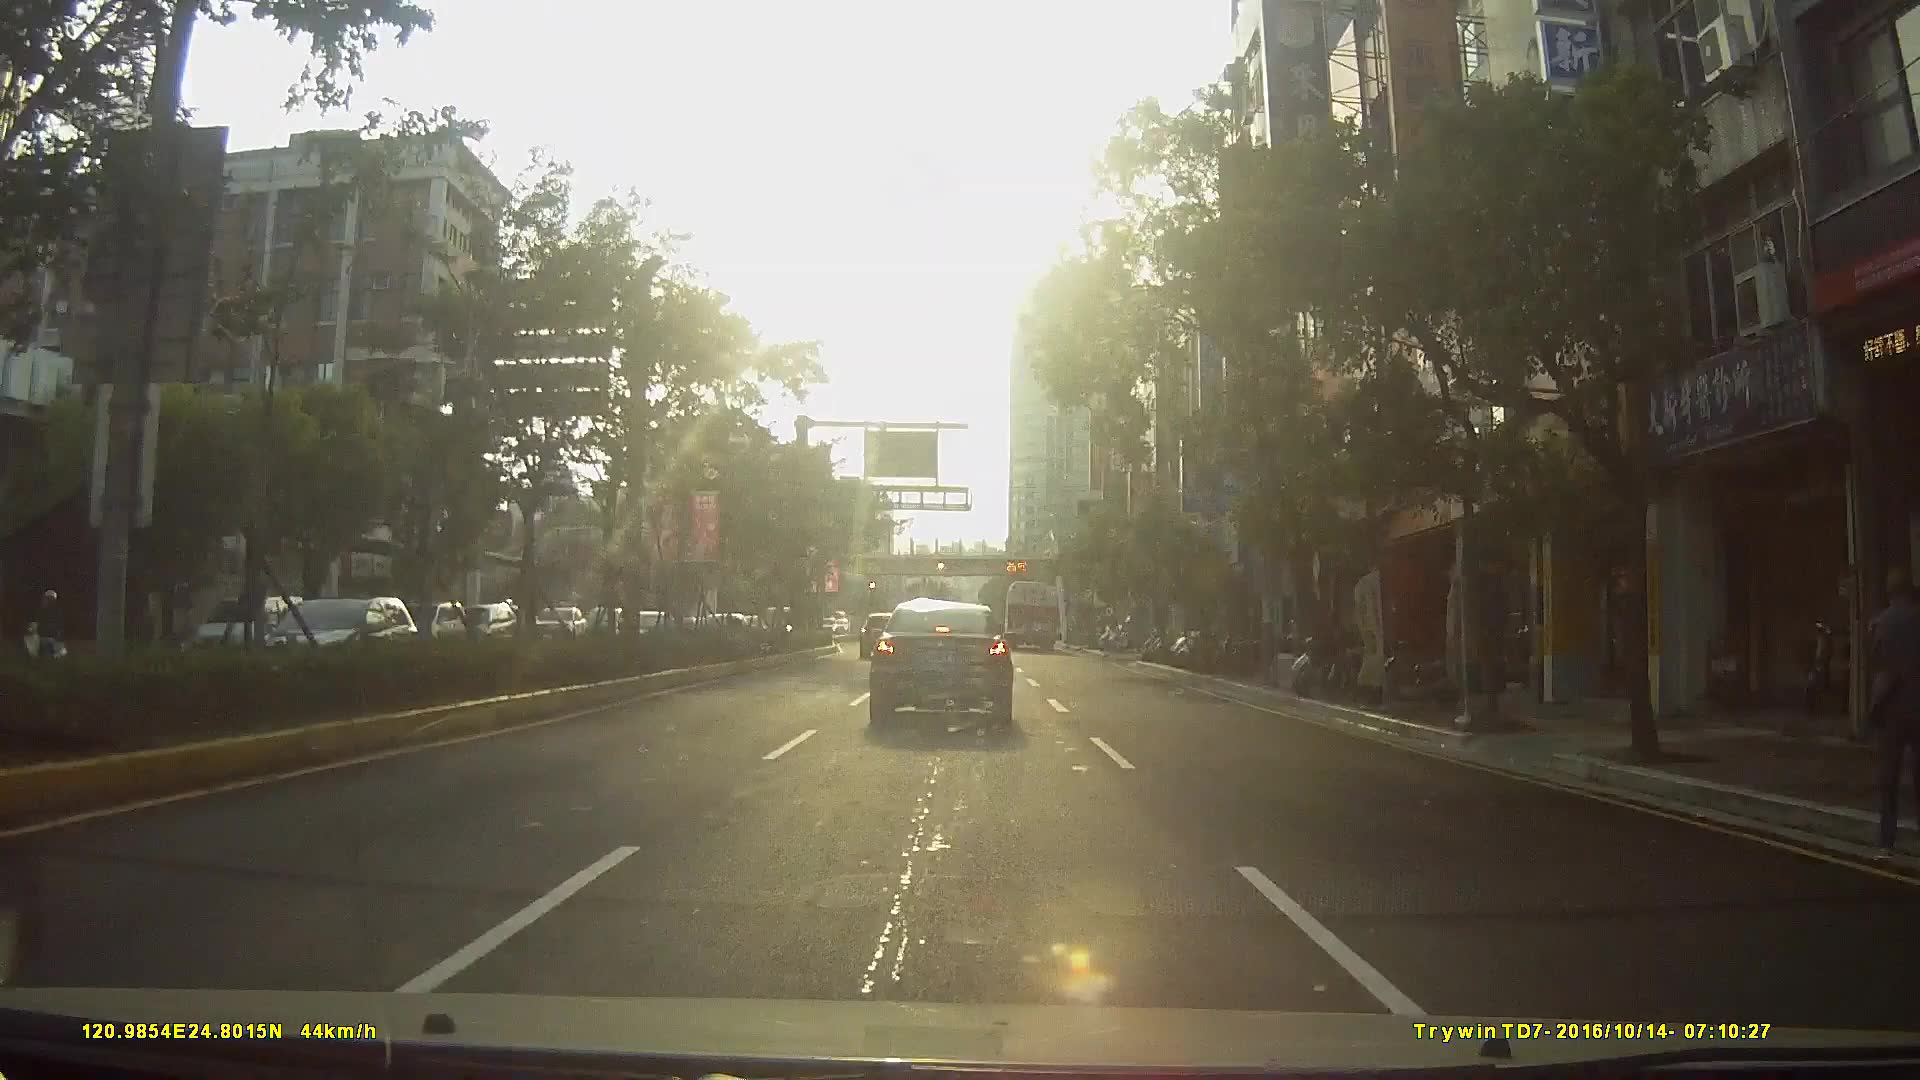pedestrian: (1857, 558, 1920, 848)
vehicle: (865, 597, 1015, 726), (241, 593, 434, 687), (185, 594, 304, 666), (1000, 579, 1060, 650), (450, 600, 513, 649), (403, 601, 466, 649), (529, 607, 585, 644), (858, 611, 899, 659)
